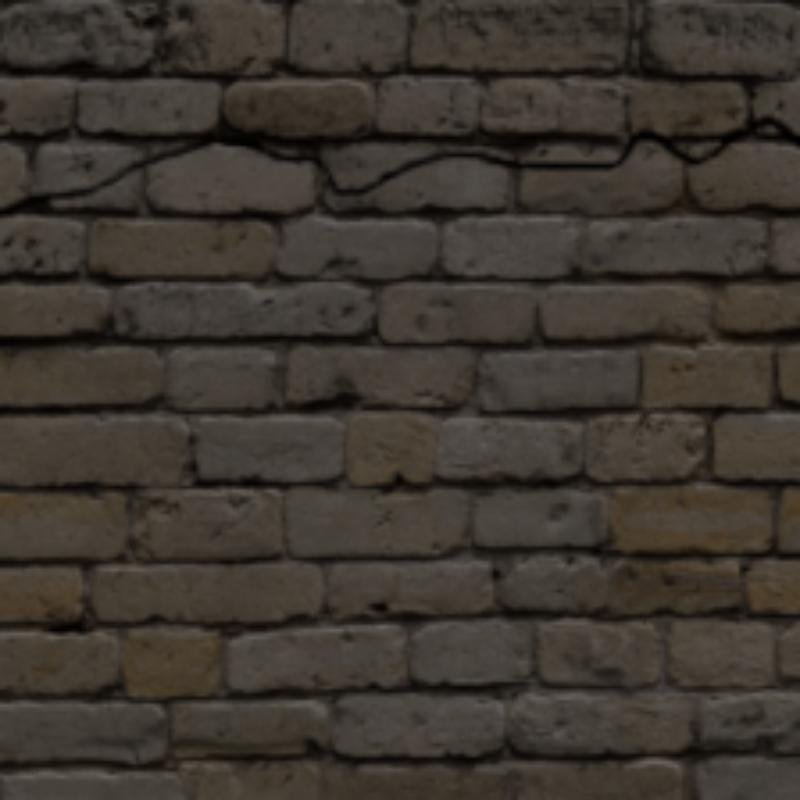pothole: (0, 136, 282, 211), (475, 129, 700, 168), (311, 154, 443, 193), (705, 118, 796, 156)
